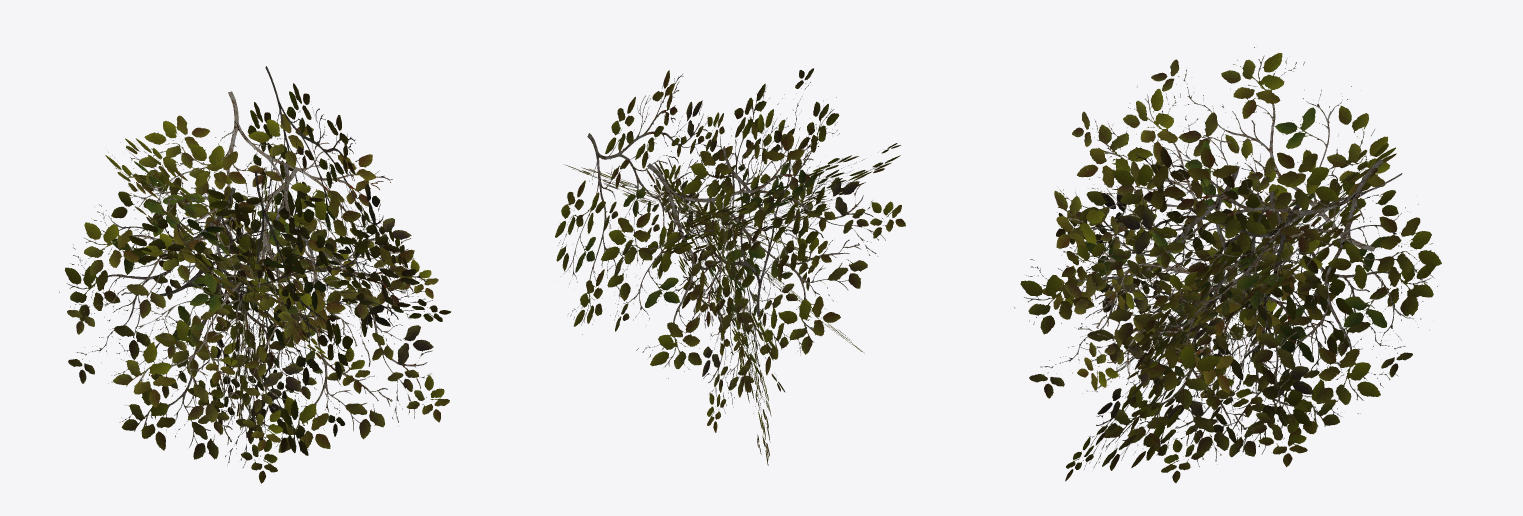
Rendered from rock_plants_002_LOD1.obj.
3 views of the same model, side by side, from view 1: azimuth 30°, elevation 25°; view 2: azimuth 150°, elevation 25°; view 3: azimuth 270°, elevation 25° (orthographic). The views are drawn at different scales.
Visible parts, largest first — view 1: rock_plants_002_LOD1; view 2: rock_plants_002_LOD1; view 3: rock_plants_002_LOD1.
Part boxes in pixels (x1,y1,x2,y2): rock_plants_002_LOD1: [59, 66, 451, 483]; rock_plants_002_LOD1: [555, 68, 905, 465]; rock_plants_002_LOD1: [1014, 47, 1441, 482].
Size of the model in its own units: 322 by 365 by 356.
Materials: 1 (1 with a texture image).
